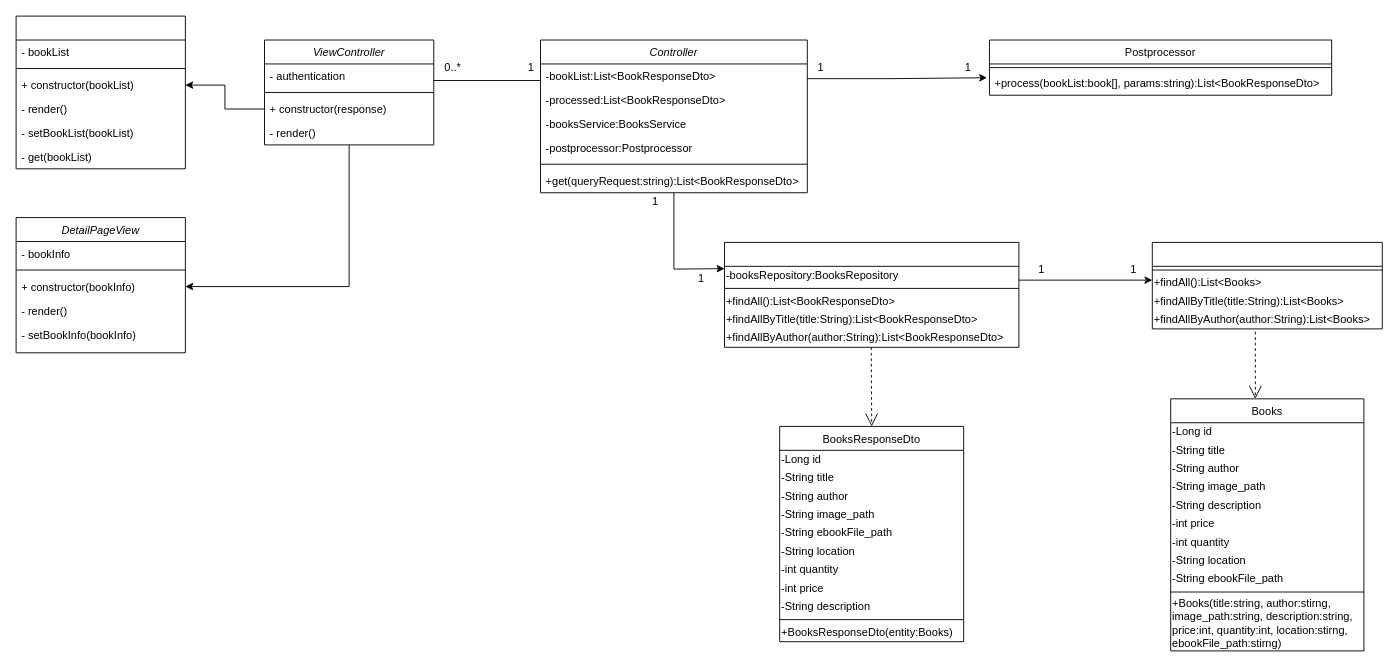
The diagram is 1398 pixels wide and 667 high, and some of its shapes have lost their labels. The box of each missing label's shape, as (x1, y1, x2, y2) in pixels:
BooksRepository: (1151, 242, 1382, 329)
BooksService: (724, 242, 1019, 347)
SearchPageView: (15, 15, 185, 169)
